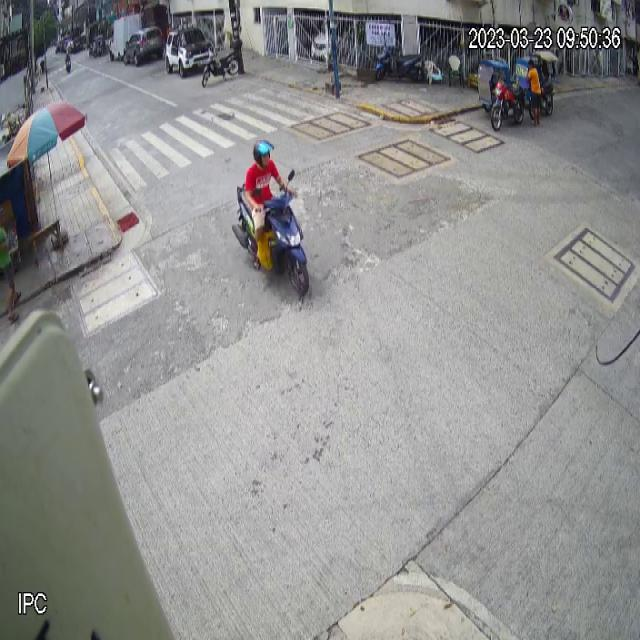Motorcycle: (230, 165, 311, 298)
Tricycle: (476, 56, 525, 130)
